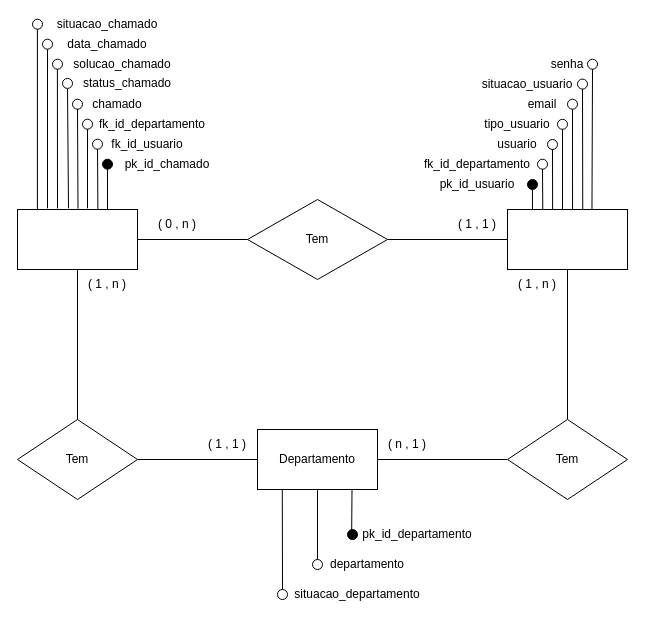
This 645x627 diagram has some shape labels left out. The centre of each missing label's shape, as x and y in pixels:
"Chamados" belongs at (77,239).
"Usuarios" belongs at (567,239).
